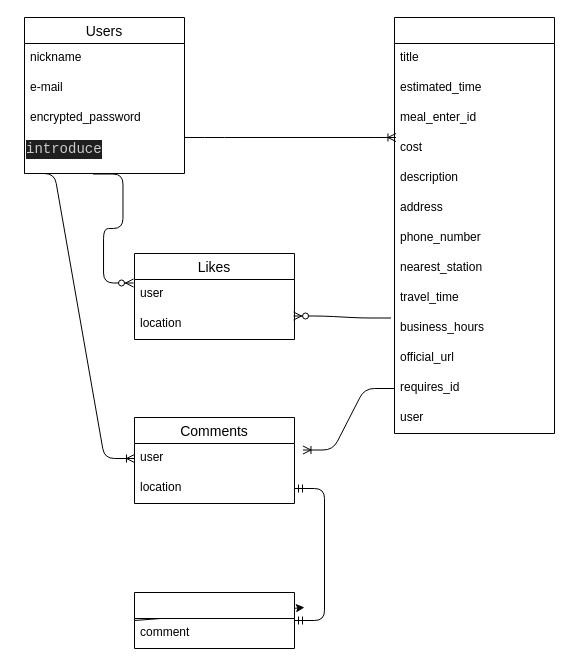
The diagram is 572 pixels wide and 669 high, and some of its shapes have lost their labels. Here are the shapes that lost their labels. From the top down, the box of each, then its label:
(394, 16, 554, 434): Locations
(134, 592, 294, 648): Ratings
